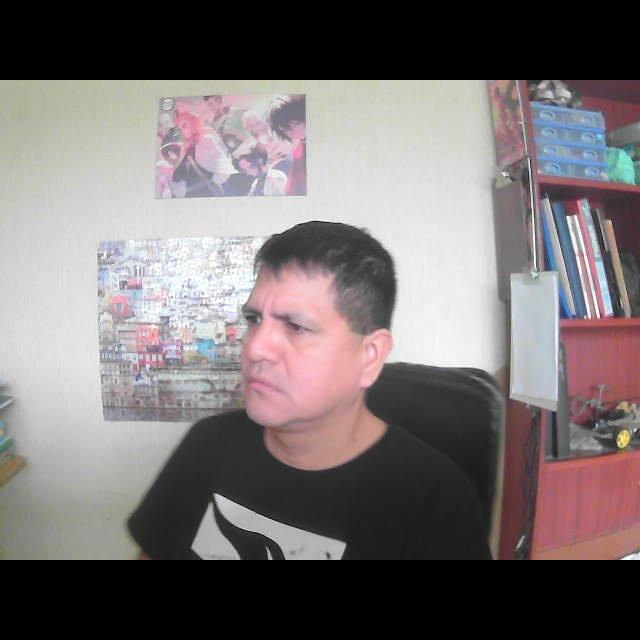cesar: (219, 212, 411, 480)
